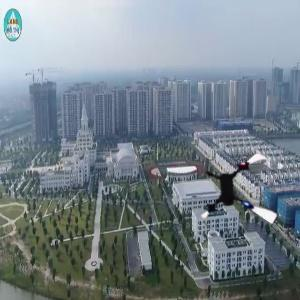drone: (194, 147, 290, 243)
